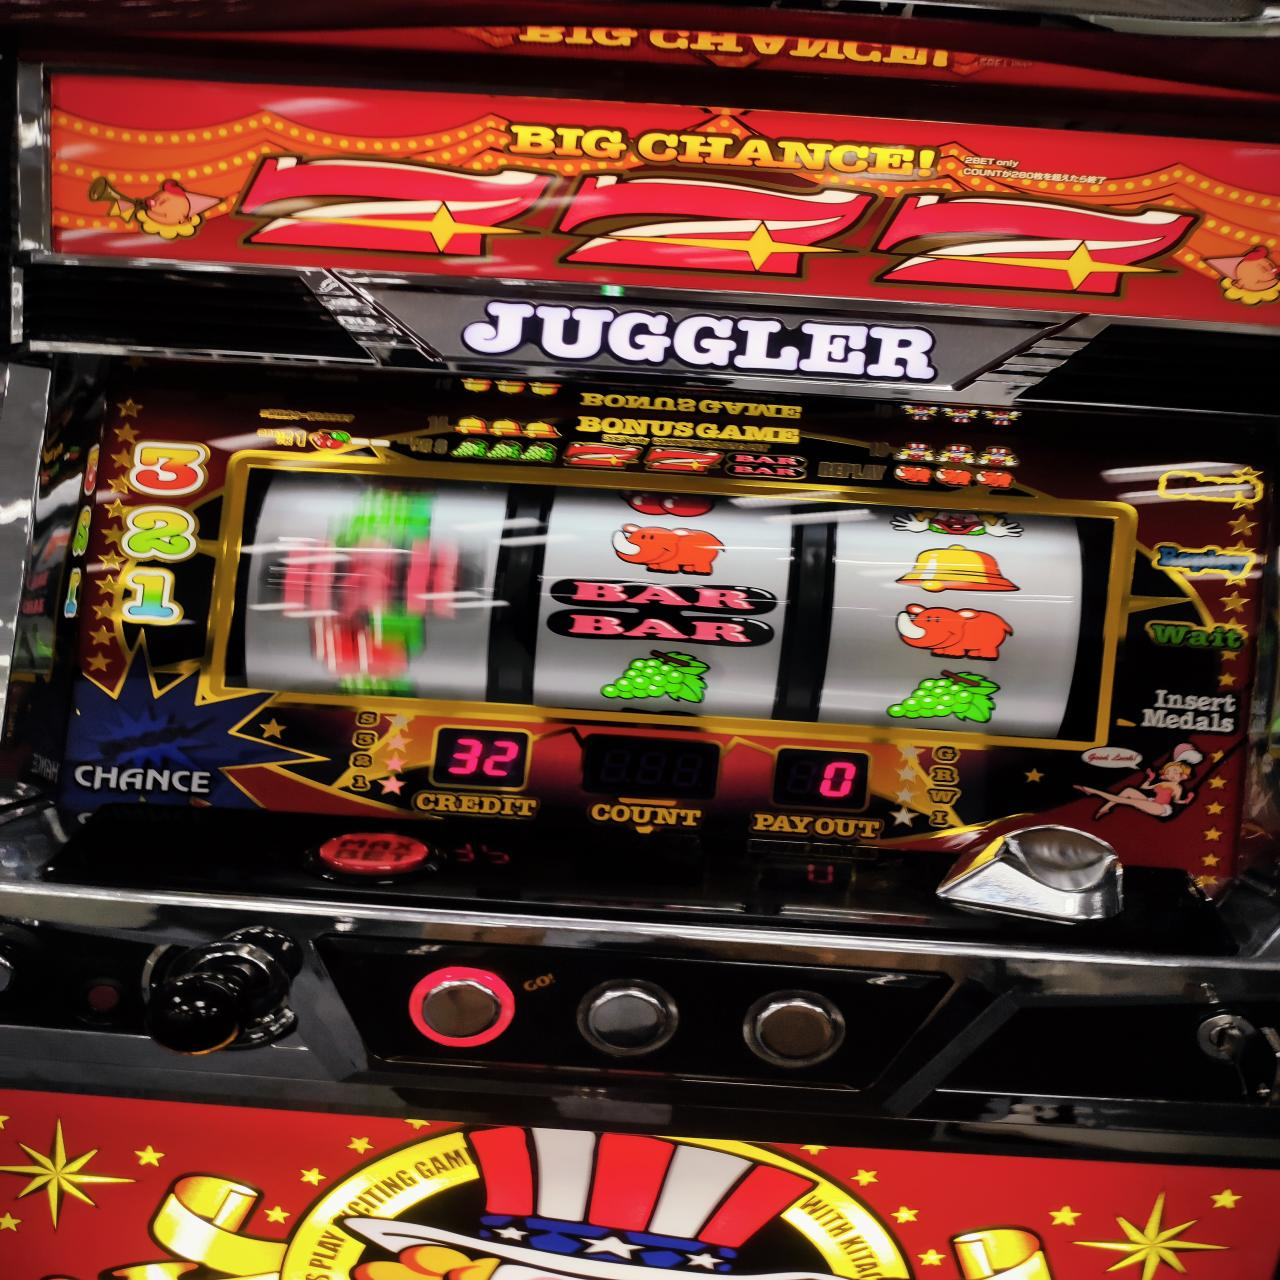8: (892, 604, 1015, 660), (607, 520, 729, 571)
bar: (551, 578, 779, 646)
bell: (894, 544, 1020, 592)
grape: (599, 649, 710, 704), (890, 670, 998, 722)
rhino: (230, 462, 1102, 744)
